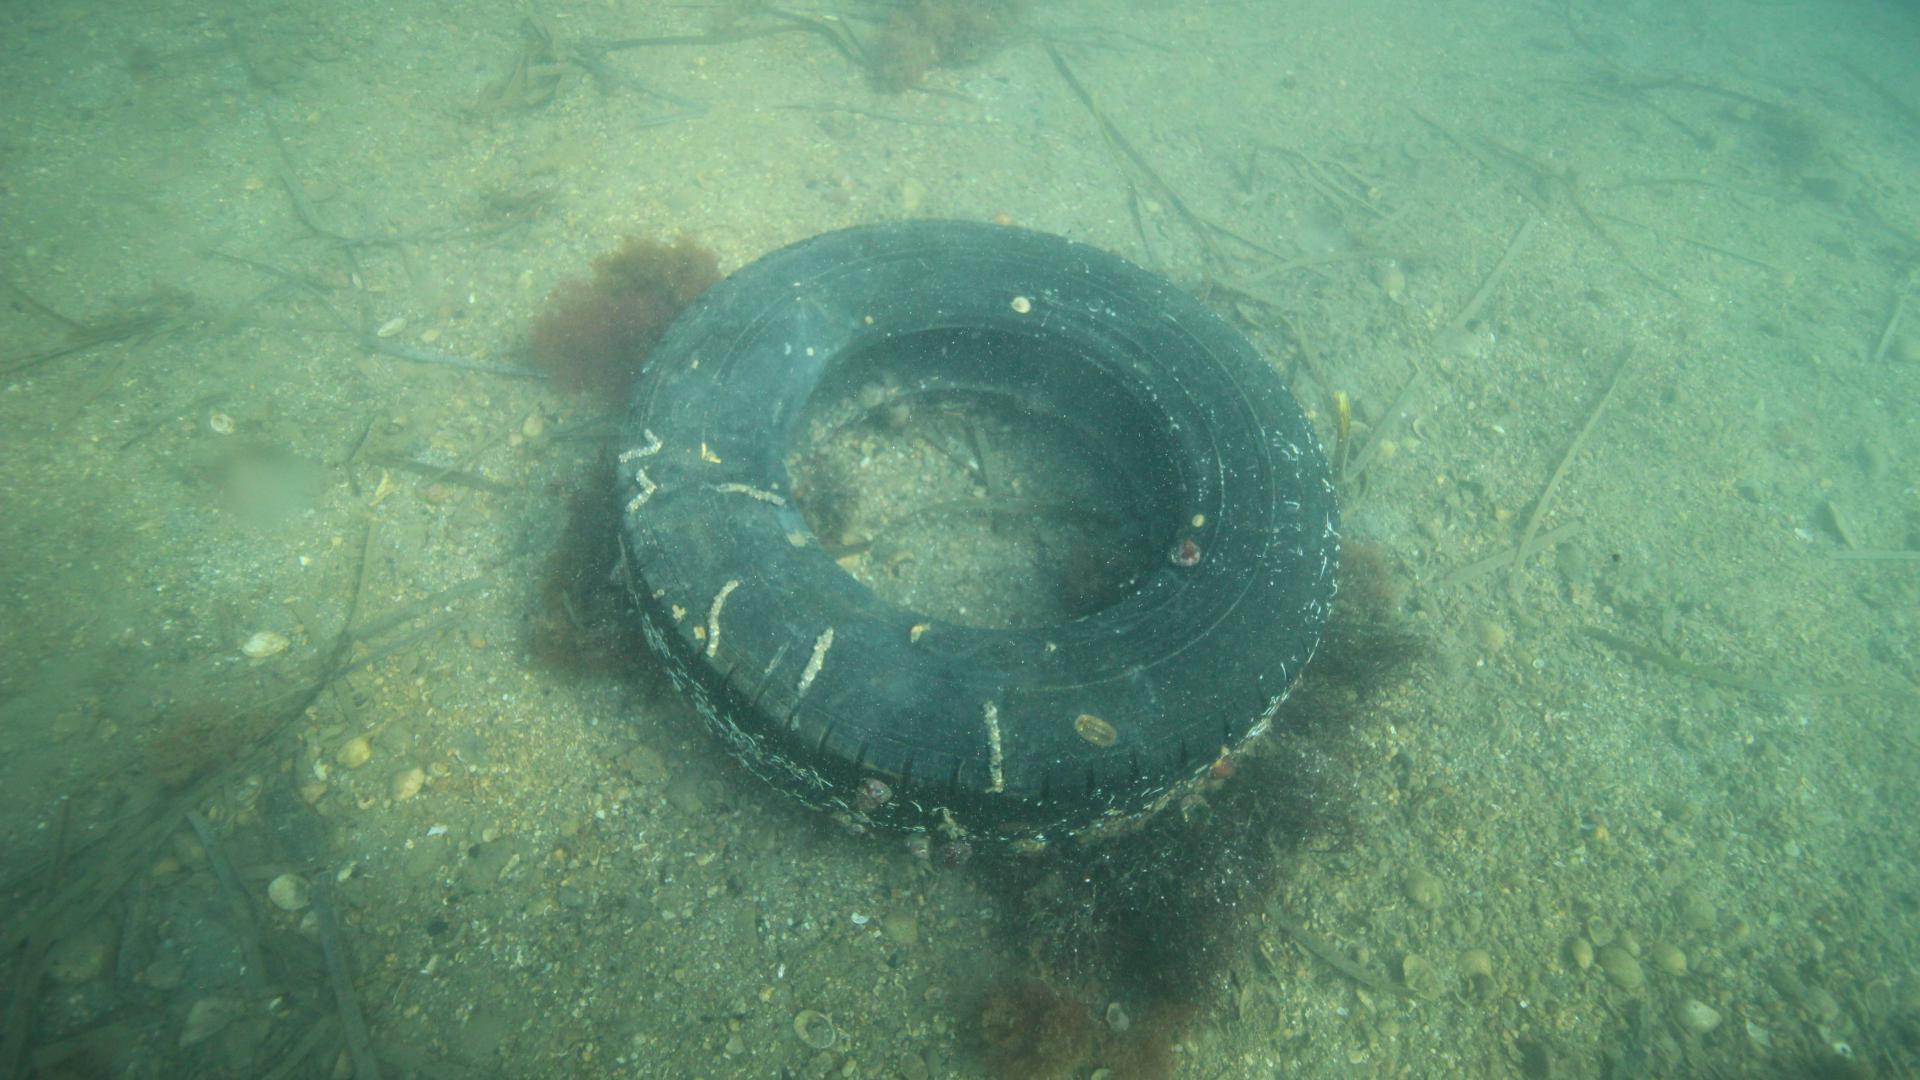tire: (616, 212, 1342, 862)
